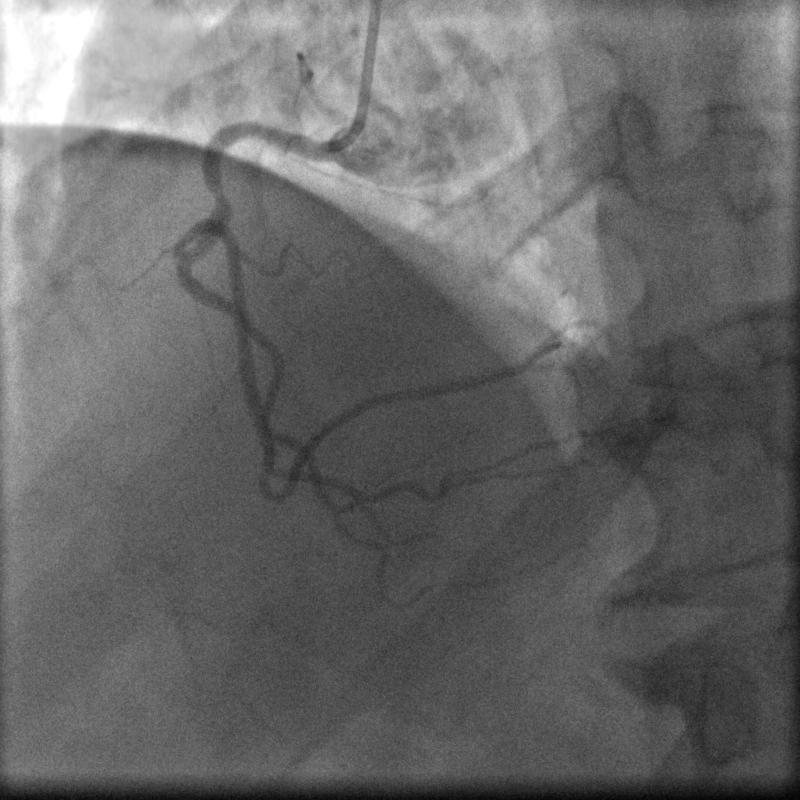Stenosis: (206, 186, 234, 210)
